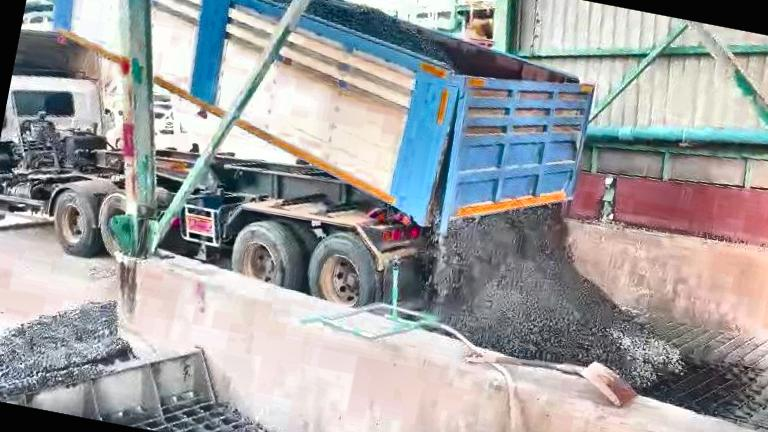gravel: (431, 205, 682, 388), (0, 303, 132, 399), (307, 0, 456, 71), (184, 0, 299, 6)
